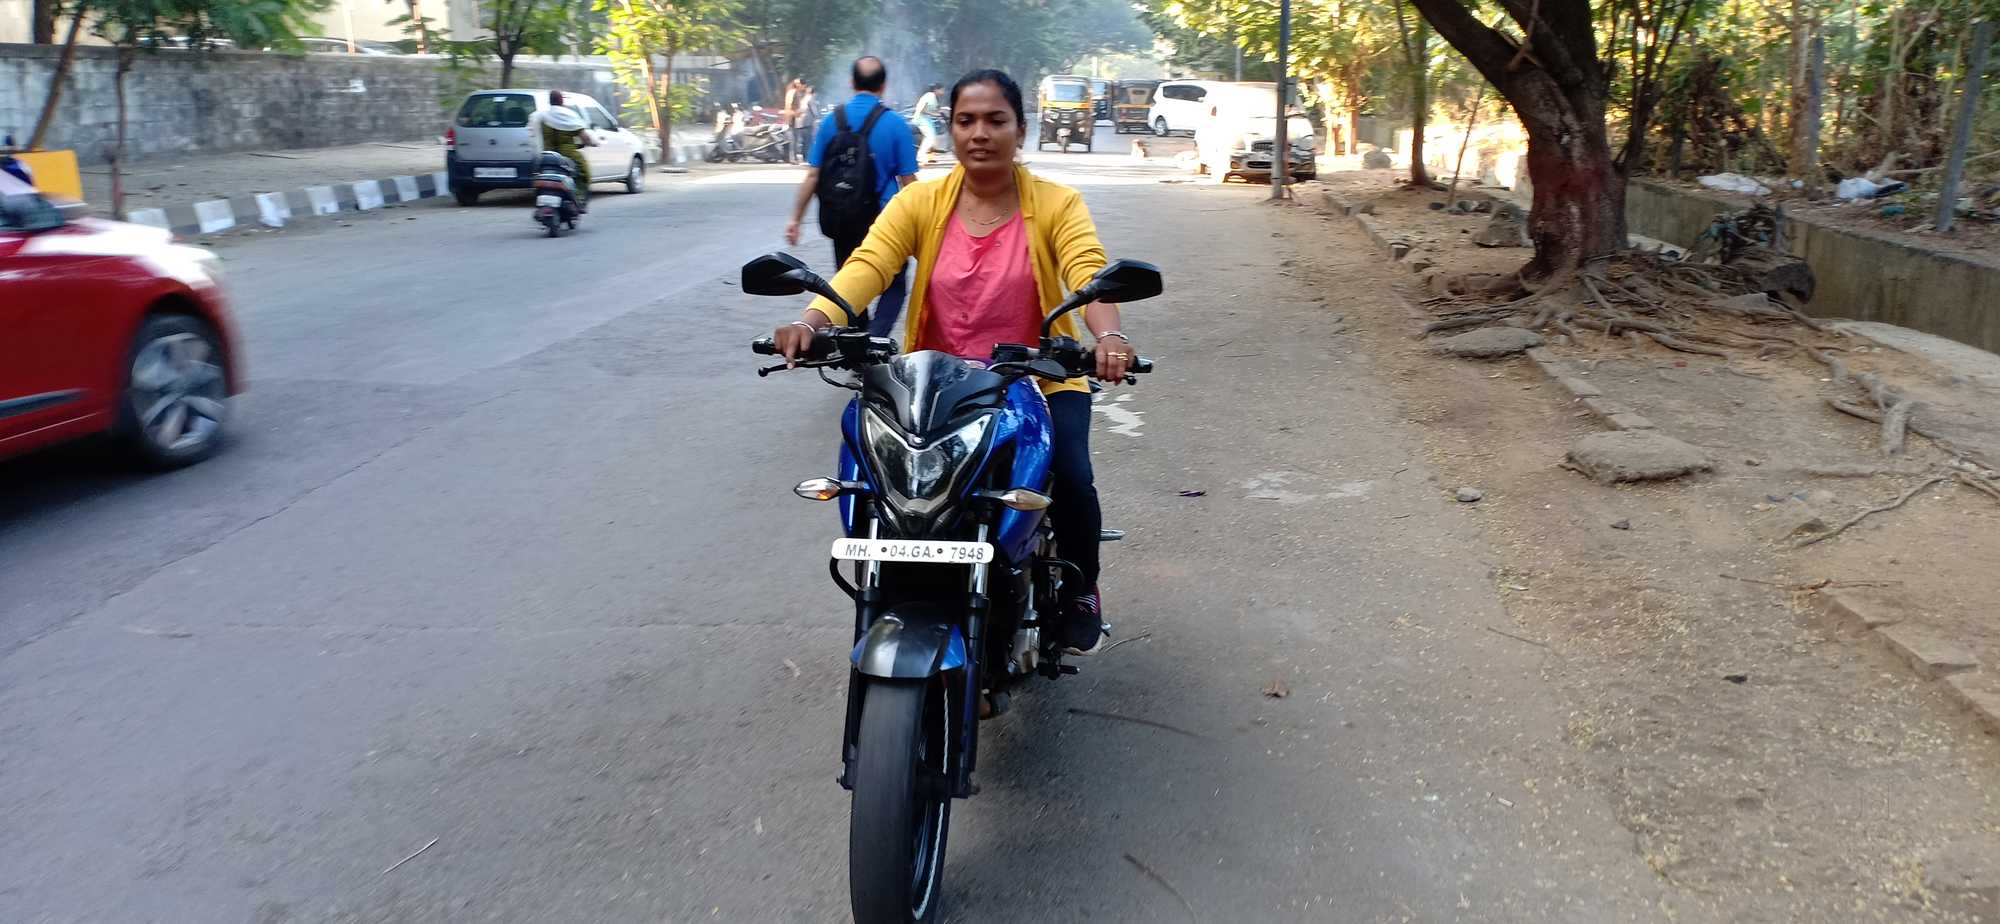Bike: (730, 308, 1114, 924)
